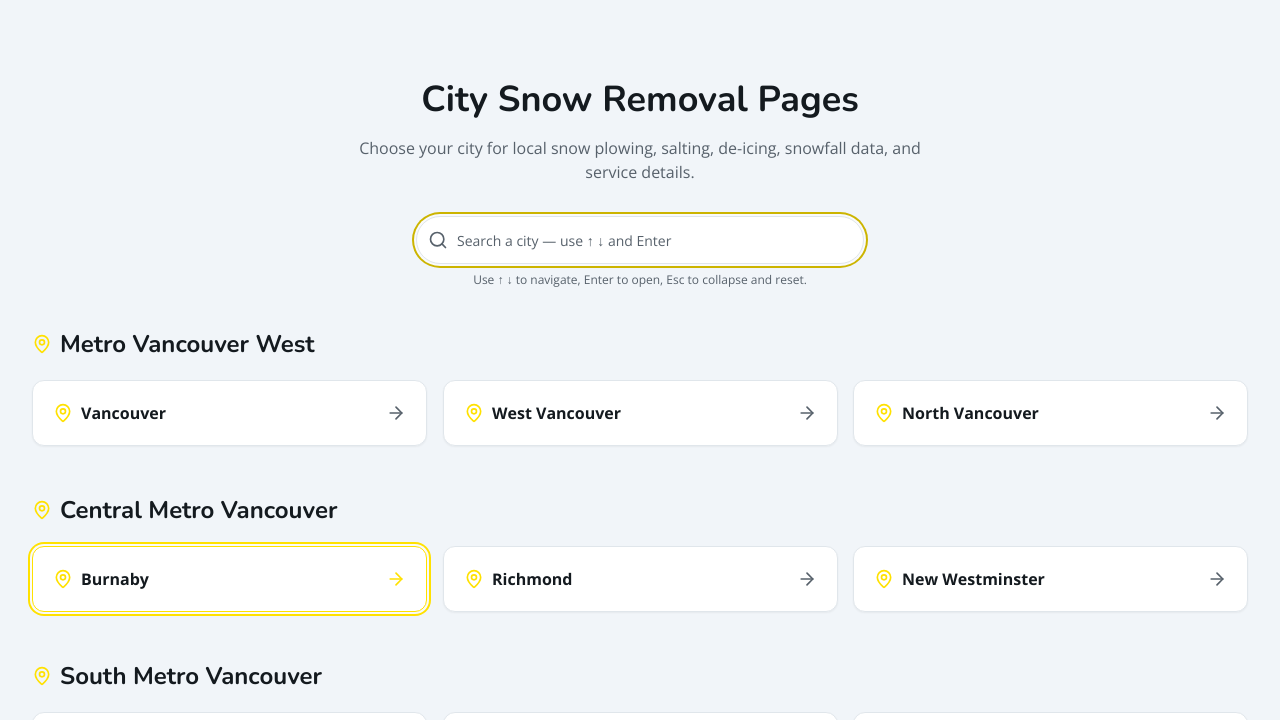
Test case: ServiceAreas restore synchronization › pulse clears after the animation window so it can replay
Later steps or results of the test are not shown.
Expected: the option with id "city-opt-burnaby" is shown, [32, 546, 427, 612]
Type "abbotsford" into the dropdown at [640, 240], box [416, 216, 864, 264]
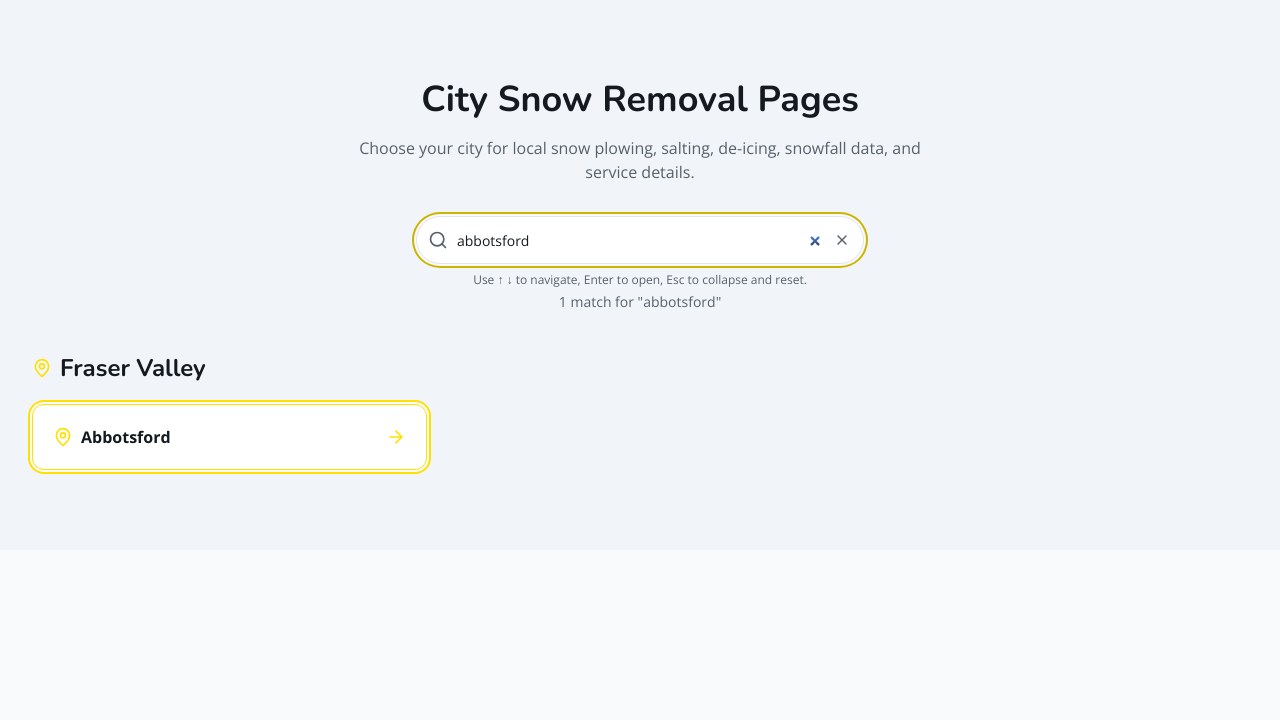
Result: the option with id "city-opt-burnaby" is gone
